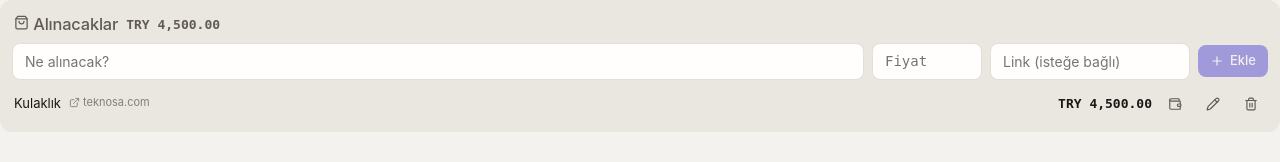
Scenario: editing an item › saves the name, the price and the link together
Click the button "Kulaklık".
click(38, 104)  # box [14, 94, 61, 113]
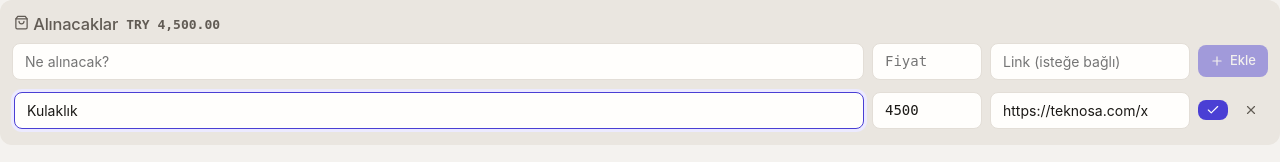
Replace the text in the field named "Ne alınacak" with "Kulaklık Pro" at (439, 110), box [14, 92, 864, 129]
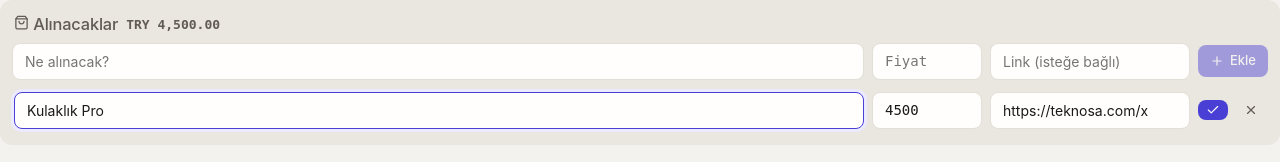
Replace the text in the field named "Fiyat" with "5200,50" at (927, 110), box [872, 92, 982, 129]
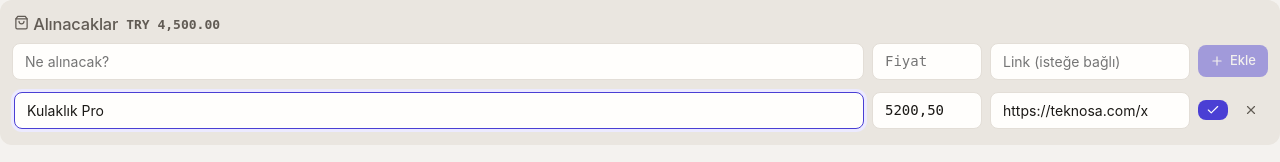
Replace the text in the field named "Link" with "hepsiburada.com/y" at (1090, 110), box [990, 92, 1190, 129]
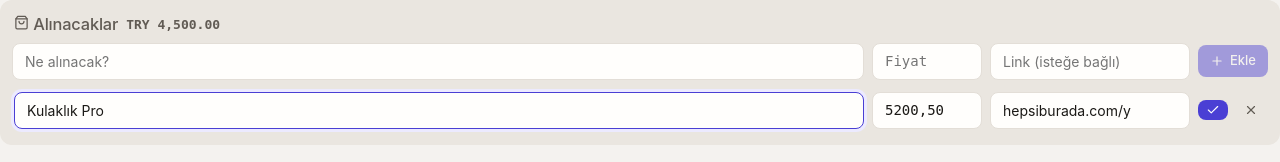
Click the button named "Kaydet".
click(1213, 110)  # box [1198, 100, 1228, 120]
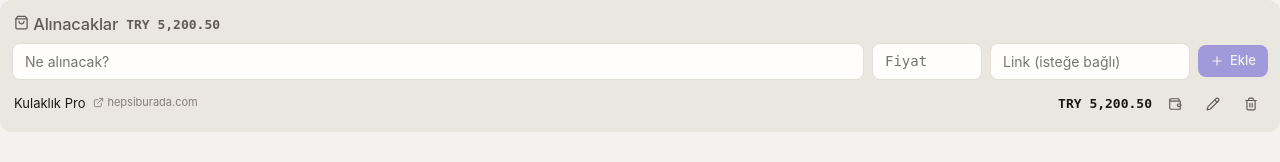
Expected: the button "Kulaklık Pro" is shown, [14, 94, 85, 113]
